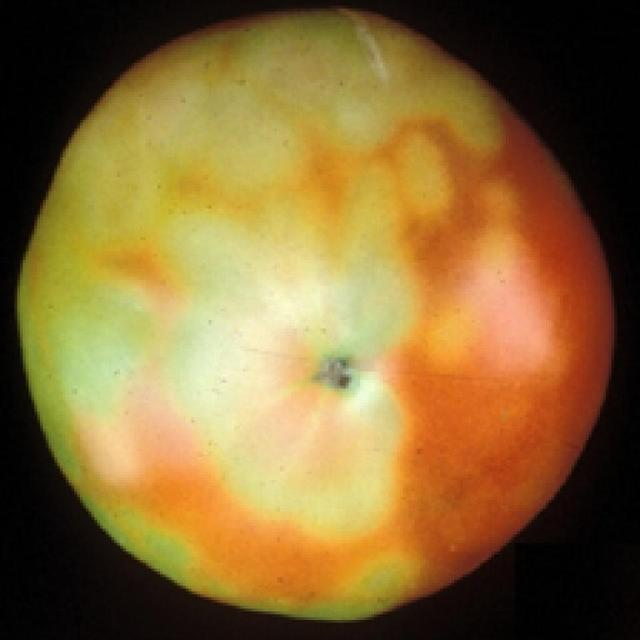Spotted wilt Virus Fruit: (10, 6, 412, 412)
